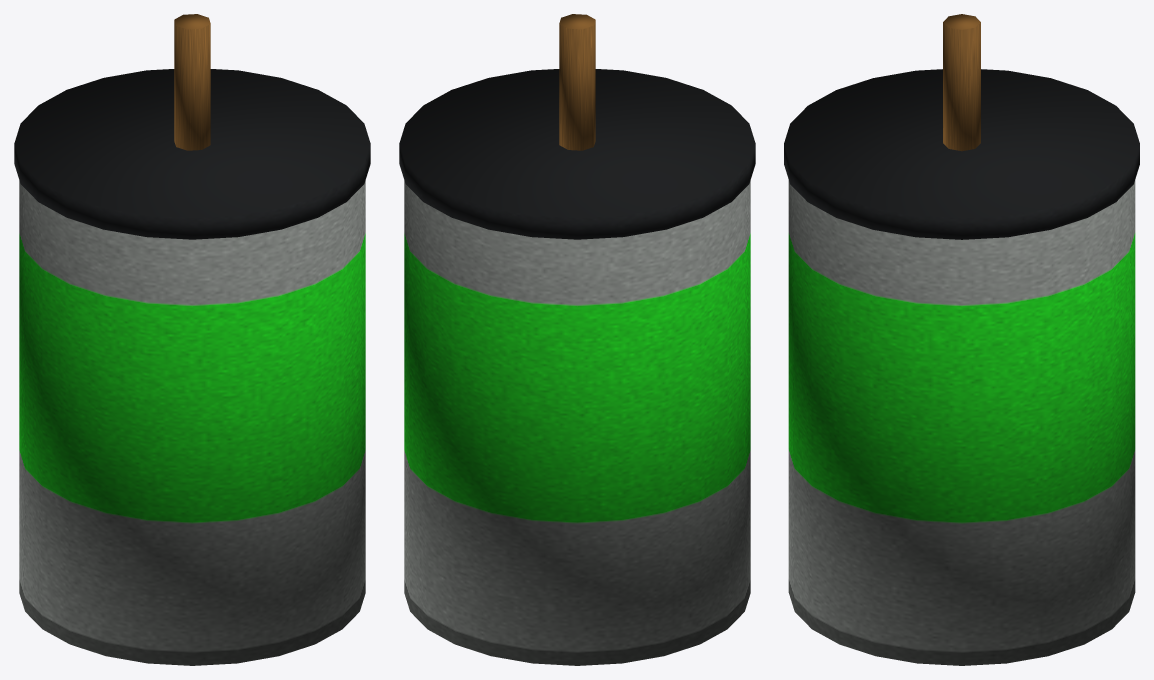
The model's file is SignalSmoke_ImprovisedSmoke.fbx.
3 views of the same model, side by side, from view 1: azimuth 30°, elevation 25°; view 2: azimuth 150°, elevation 25°; view 3: azimuth 270°, elevation 25° (orthographic).
Parts seen in each view (by area): view 1: SignalSmoke_ImprovisedSmoke; view 2: SignalSmoke_ImprovisedSmoke; view 3: SignalSmoke_ImprovisedSmoke.
Part boxes in pixels (box(x1,y1,x2,y2)): SignalSmoke_ImprovisedSmoke: box(14, 14, 370, 665); SignalSmoke_ImprovisedSmoke: box(399, 14, 755, 665); SignalSmoke_ImprovisedSmoke: box(784, 14, 1139, 665).
Size of the model in its own units: 22.6 by 40 by 22.6.
